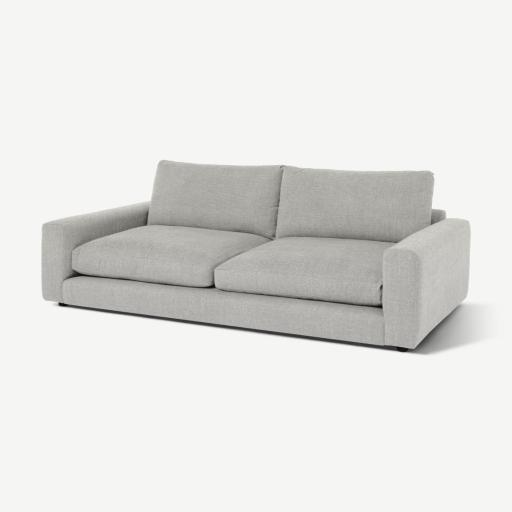back_cushion: (147, 160, 434, 242)
base: (61, 276, 385, 345)
left_arm: (382, 218, 470, 349)
right_arm: (42, 202, 149, 302)
seat_cushion: (72, 226, 393, 306)
two-seater: (0, 0, 511, 512)
